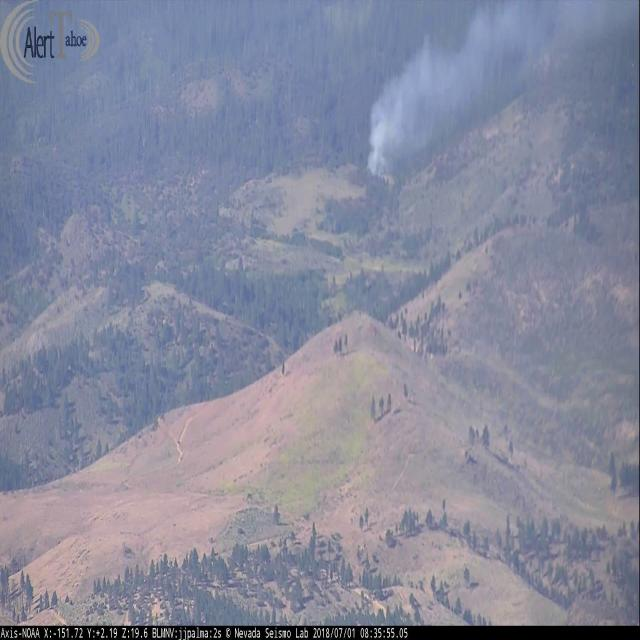smoke: (364, 0, 598, 191)
